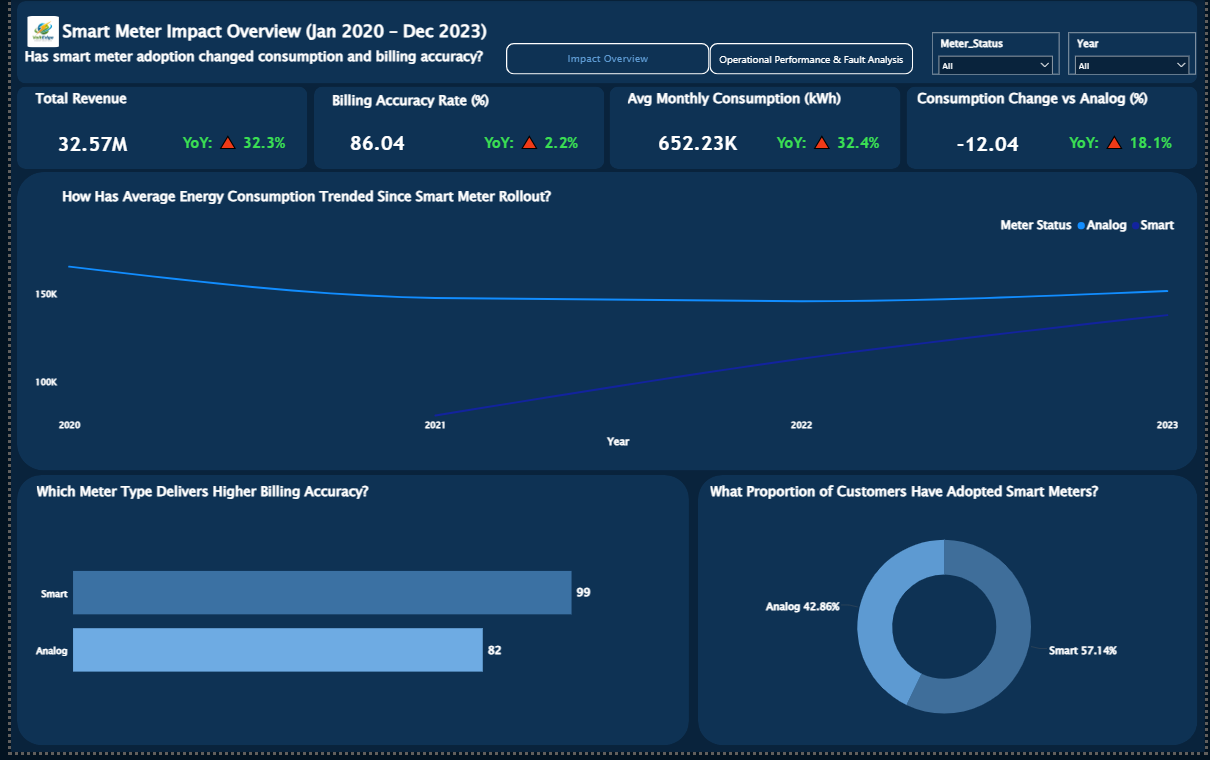

The dashboard page shown, as its layout file describes it:
{"tool":"powerbi","page":{"name":"Impact Overview","canvas":[1900,1200],"ordinal":0},"visuals":[{"type":"shape","box":[0,0,1900.3,1200.8],"z":0},{"type":"shape","box":[9.5,4.8,1878.8,131.3],"z":1000},{"type":"shape","box":[9.5,140.9,462,131.3],"z":2000},{"type":"shape","box":[481.4,140.1,462,131.3],"z":3000},{"type":"shape","box":[952.5,140.9,463.1,131.3],"z":4000},{"type":"shape","box":[1425.2,140.9,463.1,131.3],"z":5000},{"type":"shape","box":[9.5,276.9,1878.8,475.1],"z":6000},{"type":"shape","box":[9.5,759.2,1069.5,430],"z":7000},{"type":"shape","box":[1093.4,759.2,795,430],"z":8000},{"type":"card","fields":{"Values":["Billing.Total Revenue"]},"box":[0,191,257.8,81.2],"z":9000},{"type":"card","fields":{"Values":["Billing.Consumption Change Post Smart Meter %"]},"box":[1425.2,191,257.8,81.2],"z":10000},{"type":"card","fields":{"Values":["Billing.Avg Monthly Consumption"]},"box":[962.1,188.6,260.2,81.2],"z":11000},{"type":"card","fields":{"Values":["Billing.Billing Accuracy Rate"]},"box":[453.6,188.6,257.8,81.2],"z":12000},{"type":"lineChart","fields":{"Category":["Date Table.Year"],"Y":["Billing.Avg Monthly Consumption"],"Series":["MeterStatus.Meter_Status"]},"box":[33.4,339,1828.7,384.4],"z":13000},{"type":"clusteredBarChart","fields":{"Category":["MeterStatus.Meter_Status"],"Y":["Billing.Billing Accuracy Rate"]},"box":[33.4,816.5,1021.8,346.2],"z":14000},{"type":"donutChart","fields":{"Y":["Count(Customers.Customer_ID)"],"Category":["Customers.Meter_Type"]},"box":[1107.7,816.5,754.4,367.6],"z":15000},{"type":"textbox","box":[16.7,21.5,785.4,100.3],"z":16000},{"type":"textbox","box":[33.4,138.5,303.2,50.1],"z":17000},{"type":"textbox","box":[506.1,140.9,343.8,59.7],"z":18000},{"type":"textbox","box":[976.4,138.5,415.4,50.1],"z":19000},{"type":"textbox","box":[1437.2,138.5,403.5,50.1],"z":20000},{"type":"textbox","box":[76.4,293.6,1298.7,62.1],"z":21000},{"type":"textbox","box":[35.8,763.9,888.1,57.3],"z":22000},{"type":"textbox","box":[1107.7,763.9,656.5,57.3],"z":23000},{"type":"slicer","fields":{"Values":["Date Table.Year"]},"box":[1683.1,54.9,202.9,66.8],"z":24000},{"type":"slicer","fields":{"Values":["MeterStatus.Meter_Status"]},"box":[1465.8,54.9,202.9,66.8],"z":25000},{"type":"card","fields":{"Values":["Billing.Revenue YoY Text"]},"box":[257.8,200.5,193.4,59.7],"z":26000},{"type":"card","fields":{"Values":["Billing.Consumption Change YoY Text"]},"box":[1668.7,200.5,193.4,59.7],"z":27000},{"type":"card","fields":{"Values":["Billing.Consumption YoY Text"]},"box":[1203.2,200.5,193.4,59.7],"z":28000},{"type":"card","fields":{"Values":["Billing.Billing Accuracy YoY Text"]},"box":[730.5,200.5,193.4,59.7],"z":29000},{"type":"image","box":[9.5,28.6,83.6,50.1],"z":30000},{"type":"pageNavigator","box":[787.8,71.6,649.4,50.1],"z":31000}]}

Visuals, with their boxes in screenshot pixels (x1, y1, x2, y2), scaled from the page's 1900x1200 canvas onto the 1210x760 screenshot:
shape: [x1=0, y1=0, x2=1209, y2=759]
shape: [x1=6, y1=3, x2=1203, y2=86]
shape: [x1=6, y1=89, x2=300, y2=172]
shape: [x1=307, y1=89, x2=601, y2=172]
shape: [x1=607, y1=89, x2=902, y2=172]
shape: [x1=908, y1=89, x2=1203, y2=172]
shape: [x1=6, y1=175, x2=1203, y2=476]
shape: [x1=6, y1=481, x2=687, y2=753]
shape: [x1=696, y1=481, x2=1203, y2=753]
card - Billing.Total Revenue: [x1=0, y1=121, x2=164, y2=172]
card - Billing.Consumption Change Post Smart Meter %: [x1=908, y1=121, x2=1072, y2=172]
card - Billing.Avg Monthly Consumption: [x1=613, y1=119, x2=778, y2=171]
card - Billing.Billing Accuracy Rate: [x1=289, y1=119, x2=453, y2=171]
lineChart - Date Table.Year x Billing.Avg Monthly Consumption: [x1=21, y1=215, x2=1186, y2=458]
clusteredBarChart - MeterStatus.Meter_Status x Billing.Billing Accuracy Rate: [x1=21, y1=517, x2=672, y2=736]
donutChart - Count(Customers.Customer_ID) x Customers.Meter_Type: [x1=705, y1=517, x2=1186, y2=750]
textbox: [x1=11, y1=14, x2=511, y2=77]
textbox: [x1=21, y1=88, x2=214, y2=119]
textbox: [x1=322, y1=89, x2=541, y2=127]
textbox: [x1=622, y1=88, x2=886, y2=119]
textbox: [x1=915, y1=88, x2=1172, y2=119]
textbox: [x1=49, y1=186, x2=876, y2=225]
textbox: [x1=23, y1=484, x2=588, y2=520]
textbox: [x1=705, y1=484, x2=1124, y2=520]
slicer - Date Table.Year: [x1=1072, y1=35, x2=1201, y2=77]
slicer - MeterStatus.Meter_Status: [x1=933, y1=35, x2=1063, y2=77]
card - Billing.Revenue YoY Text: [x1=164, y1=127, x2=287, y2=165]
card - Billing.Consumption Change YoY Text: [x1=1063, y1=127, x2=1186, y2=165]
card - Billing.Consumption YoY Text: [x1=766, y1=127, x2=889, y2=165]
card - Billing.Billing Accuracy YoY Text: [x1=465, y1=127, x2=588, y2=165]
image: [x1=6, y1=18, x2=59, y2=50]
pageNavigator: [x1=502, y1=45, x2=915, y2=77]
